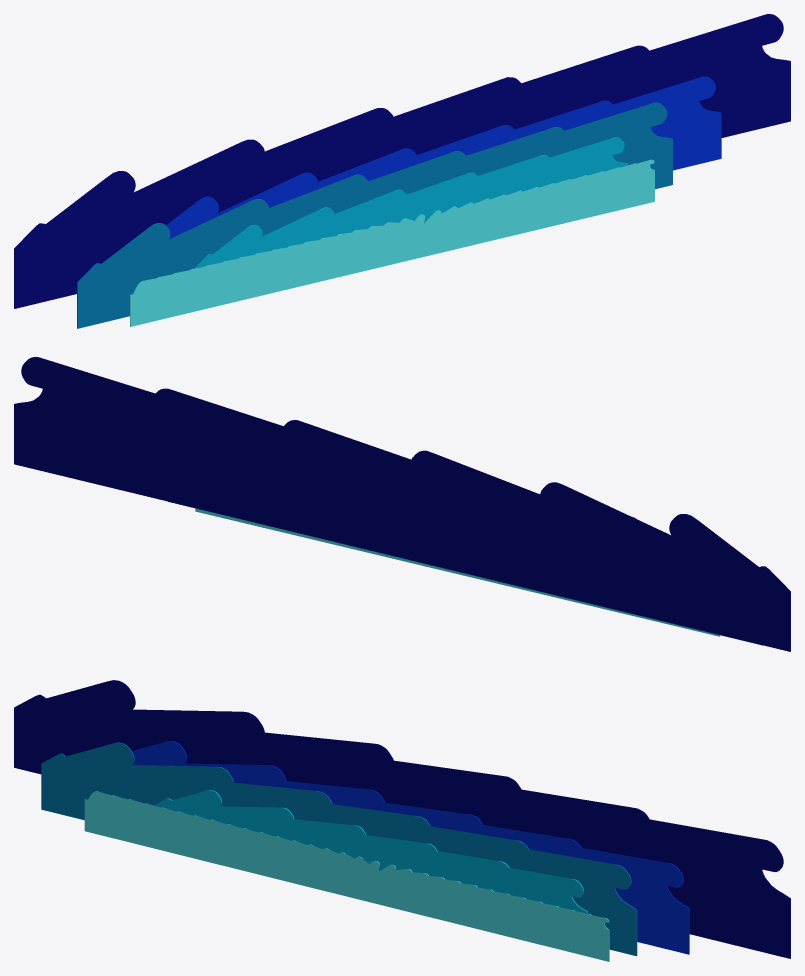
Rendered from onda.fbx.
The picture shows the model from 3 angles, top to bottom: view 1: azimuth 30°, elevation 25°; view 2: azimuth 150°, elevation 25°; view 3: azimuth 330°, elevation 25°; orthographic projection.
Visible parts, largest first — view 1: Circle.004, Circle.001, Circle.002, Circle.003, Circle; view 2: Circle.004, Circle.001, Circle.002; view 3: Circle.004, Circle.001, Circle.002, Circle.003, Circle.
Part boxes in pixels (x1,y1,x2,y2): Circle.004: [14, 14, 790, 308]; Circle.001: [130, 159, 654, 326]; Circle.002: [77, 102, 672, 328]; Circle.003: [166, 76, 721, 239]; Circle: [194, 137, 628, 268]; Circle.004: [14, 357, 790, 651]; Circle.001: [195, 508, 720, 636]; Circle.002: [168, 501, 762, 645]; Circle.004: [14, 680, 790, 958]; Circle.001: [84, 791, 609, 961]; Circle.002: [41, 742, 637, 956]; Circle.003: [132, 741, 689, 954]; Circle: [154, 790, 588, 913].
Size of the model in its own units: 318 by 54.46 by 16.39.
